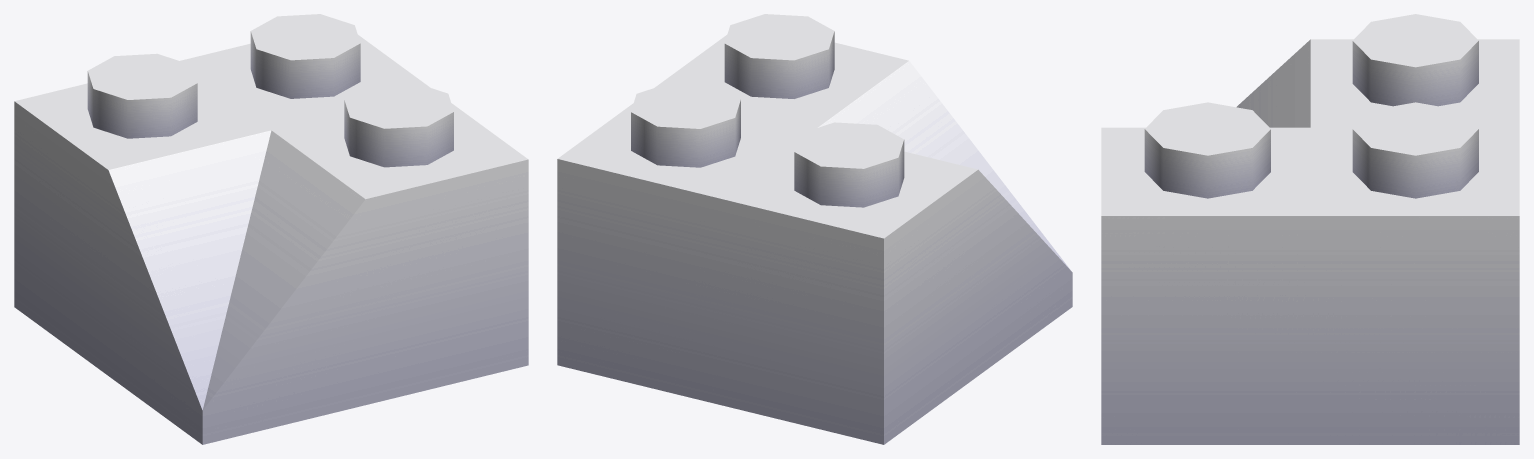
File: round-lq-brick-slope-corner-inside-2x2.glb
3 views of the same model, side by side, from view 1: azimuth 30°, elevation 25°; view 2: azimuth 150°, elevation 25°; view 3: azimuth 270°, elevation 25° (orthographic). The views are drawn at different scales.
Visible parts, largest first — view 1: round-lq-brick-slope-corner-inside-2x2; view 2: round-lq-brick-slope-corner-inside-2x2; view 3: round-lq-brick-slope-corner-inside-2x2.
Part boxes in pixels (x1,y1,x2,y2): round-lq-brick-slope-corner-inside-2x2: (14, 14, 528, 444); round-lq-brick-slope-corner-inside-2x2: (557, 14, 1072, 444); round-lq-brick-slope-corner-inside-2x2: (1101, 14, 1519, 444).
Bounding box in the file's own units: 0.159 × 0.114 × 0.159.
1 material, 1 textured.
